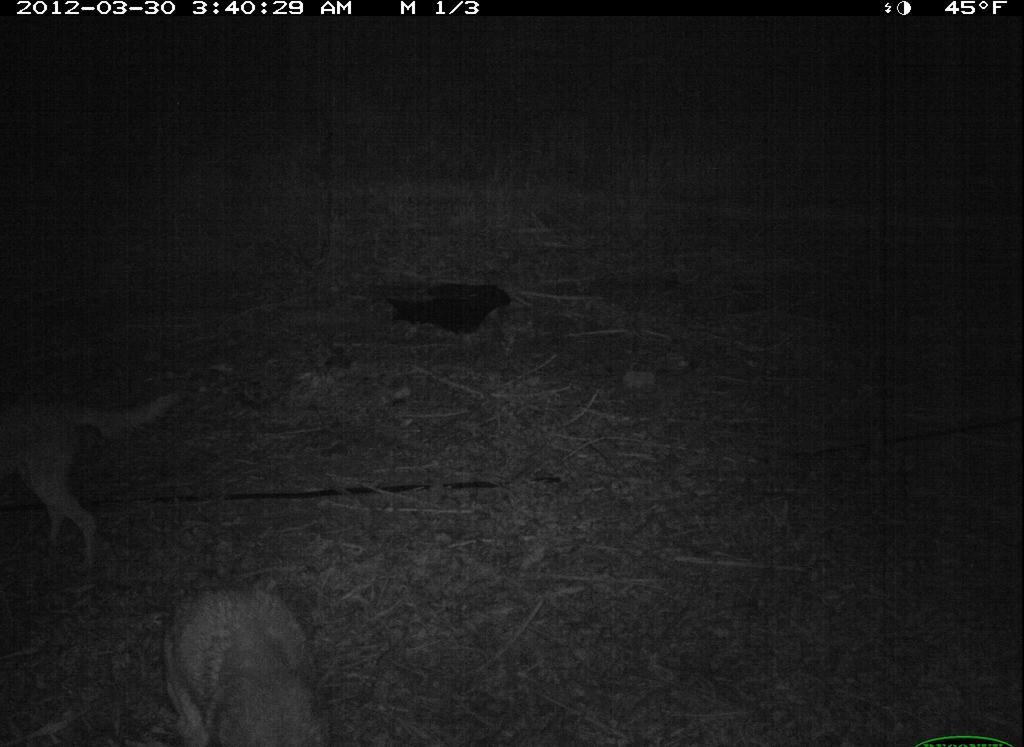coyote: (148, 571, 344, 747)
